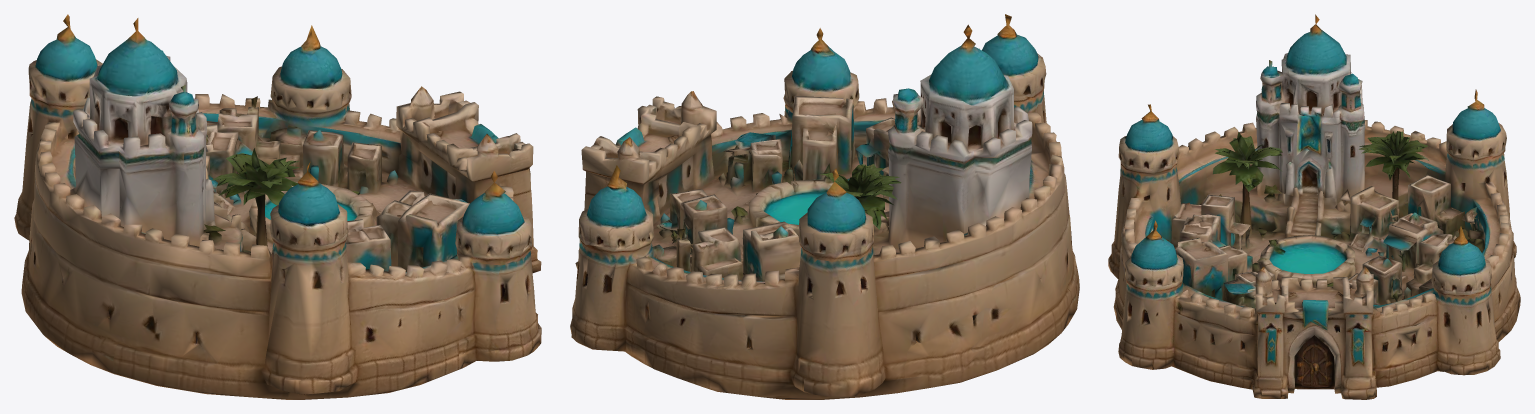
Rendered from keep.glb.
The picture shows the model from 3 angles, left to right: view 1: azimuth 30°, elevation 25°; view 2: azimuth 150°, elevation 25°; view 3: azimuth 270°, elevation 25°; orthographic projection. The views are drawn at different scales.
Visible parts, largest first — view 1: tripo_node_15607538-6066-4927-ad6a-0b64629b84b9; view 2: tripo_node_15607538-6066-4927-ad6a-0b64629b84b9; view 3: tripo_node_15607538-6066-4927-ad6a-0b64629b84b9.
Part boxes in pixels (bbox=[...]): tripo_node_15607538-6066-4927-ad6a-0b64629b84b9: bbox=[14, 14, 541, 399]; tripo_node_15607538-6066-4927-ad6a-0b64629b84b9: bbox=[570, 14, 1079, 399]; tripo_node_15607538-6066-4927-ad6a-0b64629b84b9: bbox=[1108, 14, 1520, 399].
Size of the model in its own units: 0.9822 by 0.6593 by 0.9984.
Materials: 1 (1 with a texture image).
